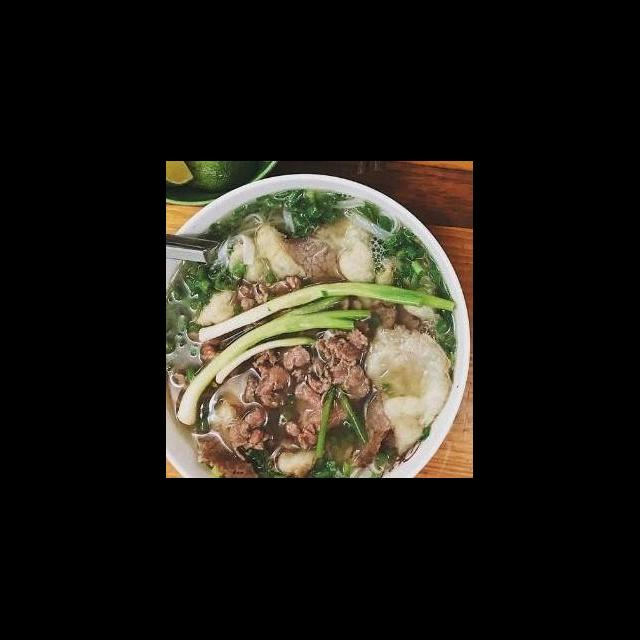banh pho: (213, 200, 300, 268)
pho bo: (170, 192, 473, 478)
thit bo: (348, 324, 458, 474), (248, 214, 382, 292), (188, 394, 274, 478), (300, 324, 380, 406), (276, 378, 352, 456), (238, 342, 314, 414), (230, 270, 314, 314), (374, 300, 442, 344)
